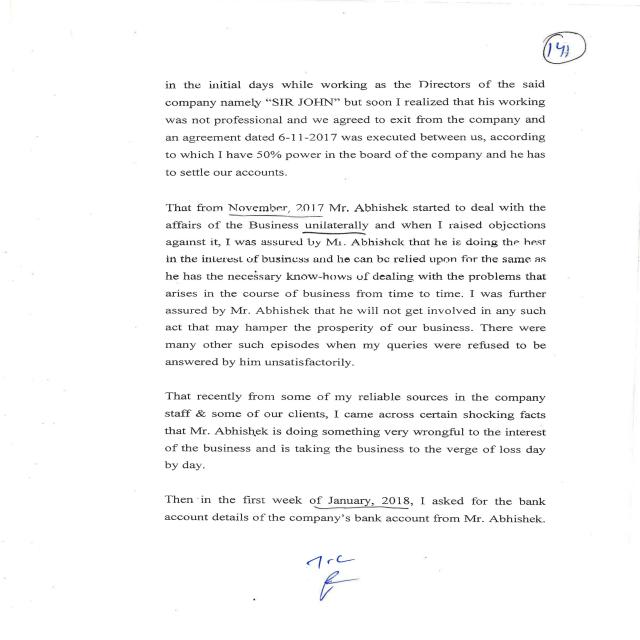page-number: (329, 15, 640, 70)
